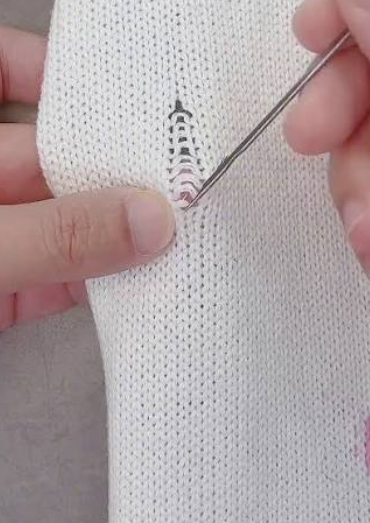missing_stitch_1: (159, 98, 202, 212)
